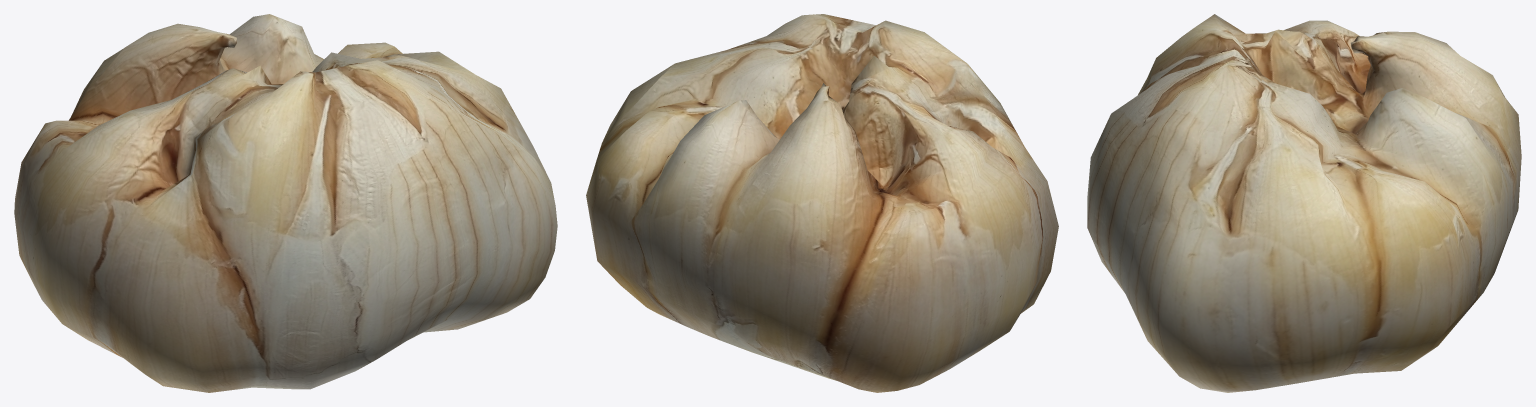
Rendered from A80_Garlic_low.fbx.
3 renders of one model, left to right at view 1: azimuth 30°, elevation 25°; view 2: azimuth 150°, elevation 25°; view 3: azimuth 270°, elevation 25°, orthographic. The views are drawn at different scales.
Parts seen in each view (by area): view 1: A80_Garlic_low; view 2: A80_Garlic_low; view 3: A80_Garlic_low.
Part boxes in pixels (x1=…): A80_Garlic_low: x1=14, y1=14, x2=557, y2=392; A80_Garlic_low: x1=586, y1=14, x2=1058, y2=392; A80_Garlic_low: x1=1087, y1=14, x2=1521, y2=392.
Size of the model in its own units: 3.32 by 2.8 by 2.13.
1 material, 1 textured.
